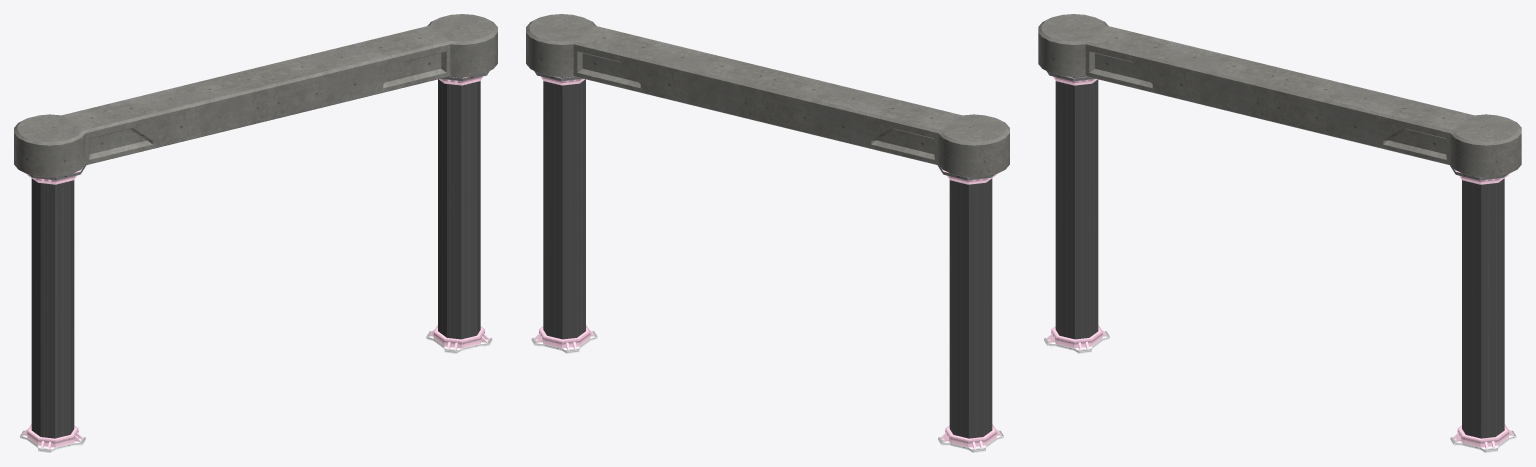
File: support_beams_single.fbx
3 renders of one model, left to right at view 1: azimuth 30°, elevation 25°; view 2: azimuth 150°, elevation 25°; view 3: azimuth 330°, elevation 25°, orthographic.
Parts seen in each view (by area): view 1: support_beam__1_, support_pylon_1, support_pylon, support_ground, support_ground_1; view 2: support_beam__1_, support_pylon_1, support_pylon, support_ground, support_ground_1; view 3: support_beam__1_, support_pylon_1, support_pylon, support_ground, support_ground_1.
Boxes of the visible parts, x1,y1,x2,y2 form: support_beam__1_: [14, 14, 497, 177]; support_pylon_1: [31, 178, 74, 438]; support_pylon: [438, 76, 480, 339]; support_ground: [426, 325, 492, 353]; support_ground_1: [20, 424, 85, 452]; support_beam__1_: [526, 14, 1009, 177]; support_pylon_1: [949, 178, 992, 438]; support_pylon: [543, 76, 585, 339]; support_ground: [531, 325, 597, 353]; support_ground_1: [938, 424, 1003, 452]; support_beam__1_: [1038, 14, 1521, 177]; support_pylon_1: [1055, 76, 1098, 339]; support_pylon: [1462, 178, 1504, 438]; support_ground: [1450, 424, 1516, 452]; support_ground_1: [1044, 325, 1109, 353].
Bounding box in the file's own units: 8651 × 5419 × 1120.
